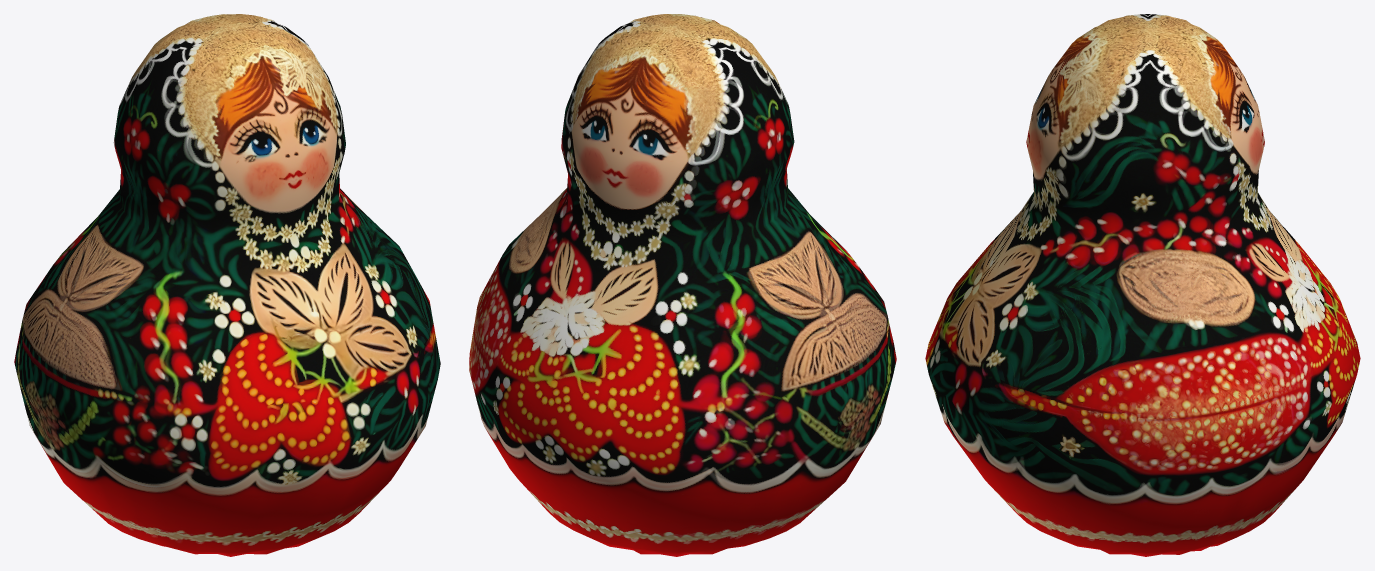
Rendered from Collection02.fbx.
3 renders of one model, left to right at view 1: azimuth 30°, elevation 25°; view 2: azimuth 150°, elevation 25°; view 3: azimuth 270°, elevation 25°, orthographic.
Parts seen in each view (by area): view 1: mesh_node; view 2: mesh_node; view 3: mesh_node.
Boxes of the visible parts, x1,y1,x2,y2 form: mesh_node: (14,14,440,556); mesh_node: (469,14,896,556); mesh_node: (925,14,1360,556).
Bounding box in the file's own units: 154 × 200 × 158.
1 material, 1 textured.
